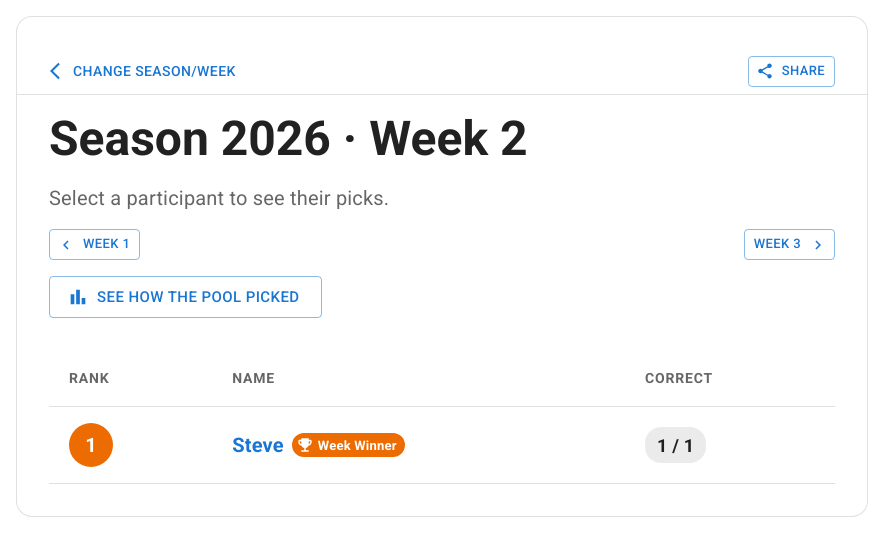
Scenario: moving between weeks from the standings page › goes to the next week and back without a trip home
The width and height of the screenshot is (885, 534).
Click the link with aria-label "Week 3 (next week)" at (789, 245), box [744,229,835,260]
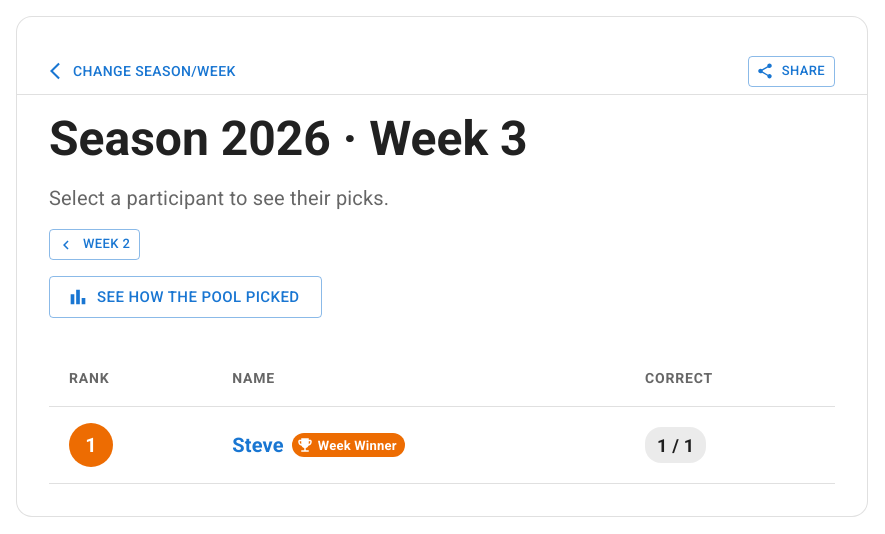
Check: the heading "Season 2026 · Week 3" is shown, box [49,110,528,166]
Click the link with aria-label "Week 2 (previous week)" at (95, 245), box [49,229,140,260]
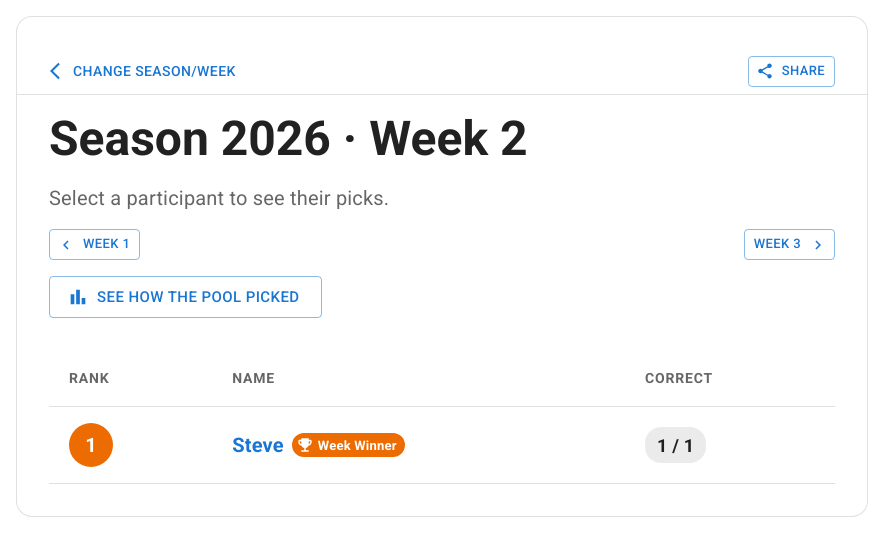
Check: the heading "Season 2026 · Week 2" is shown, box [49,110,528,166]
